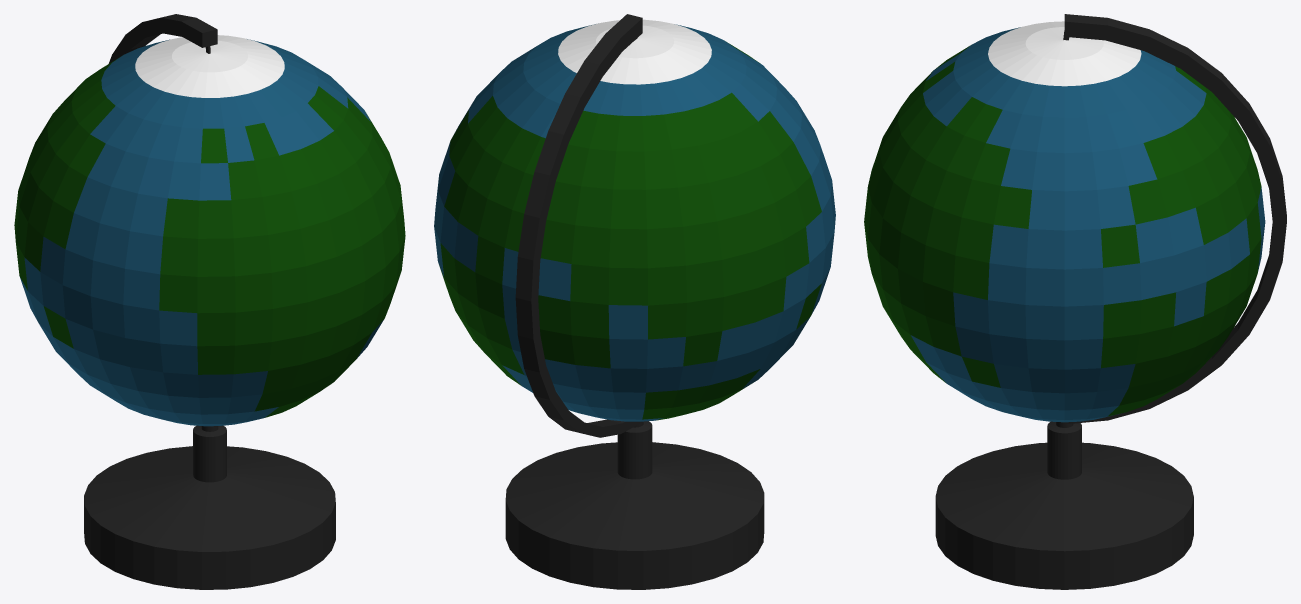
Rendered from wereldbol.fbx.
3 views of the same model, side by side, from view 1: azimuth 30°, elevation 25°; view 2: azimuth 150°, elevation 25°; view 3: azimuth 270°, elevation 25° (orthographic). The views are drawn at different scales.
Parts seen in each view (by area): view 1: Sphere.001; view 2: Sphere.001; view 3: Sphere.001.
Boxes of the visible parts, x1,y1,x2,y2 form: Sphere.001: (14,14,405,589); Sphere.001: (434,14,835,589); Sphere.001: (864,14,1286,589).
Size of the model in its own units: 133 by 189 by 140.
